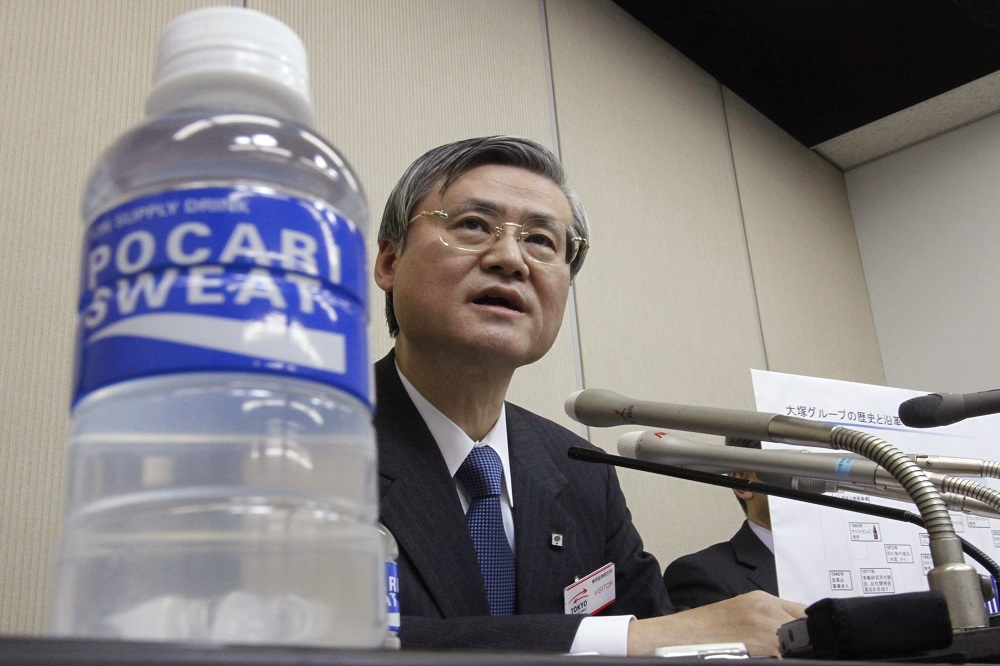POCARI SWEAT: (46, 5, 386, 647)
